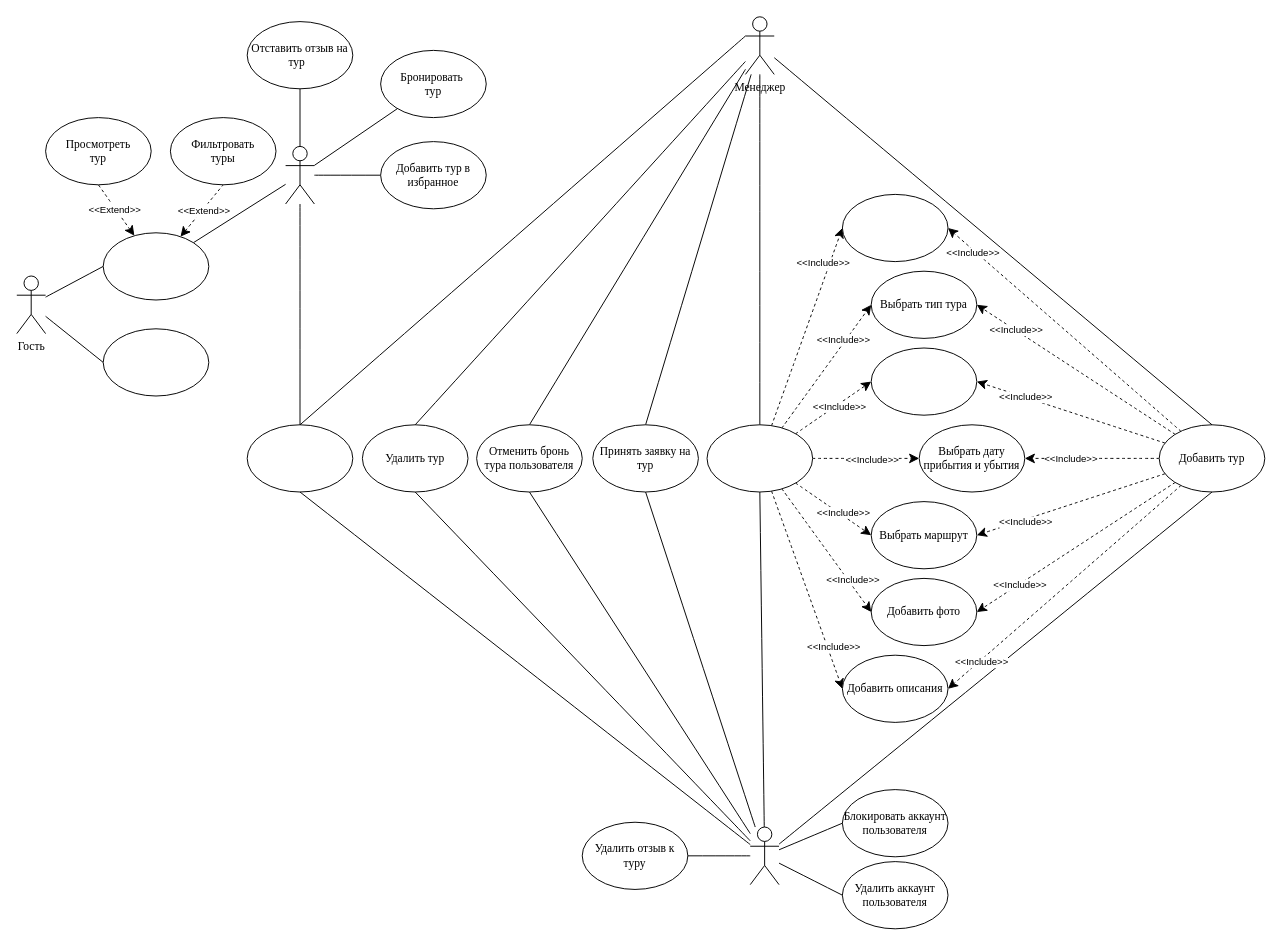
This 1282x946 diagram has some shape labels left out. The shapes that lost their labels are listed below. From the top down, each one's box as (x1, y1, x2, y2) in pixels, then its label:
(285, 145, 314, 204): Пользователь
(841, 193, 948, 262): Ввести название
(102, 232, 209, 300): Просмотреть туры
(102, 328, 209, 396): Регистрация
(870, 347, 977, 415): Выбрать город
(246, 424, 353, 492): Авторизация
(706, 424, 813, 492): Редактировать тур
(749, 826, 779, 885): Администратор
